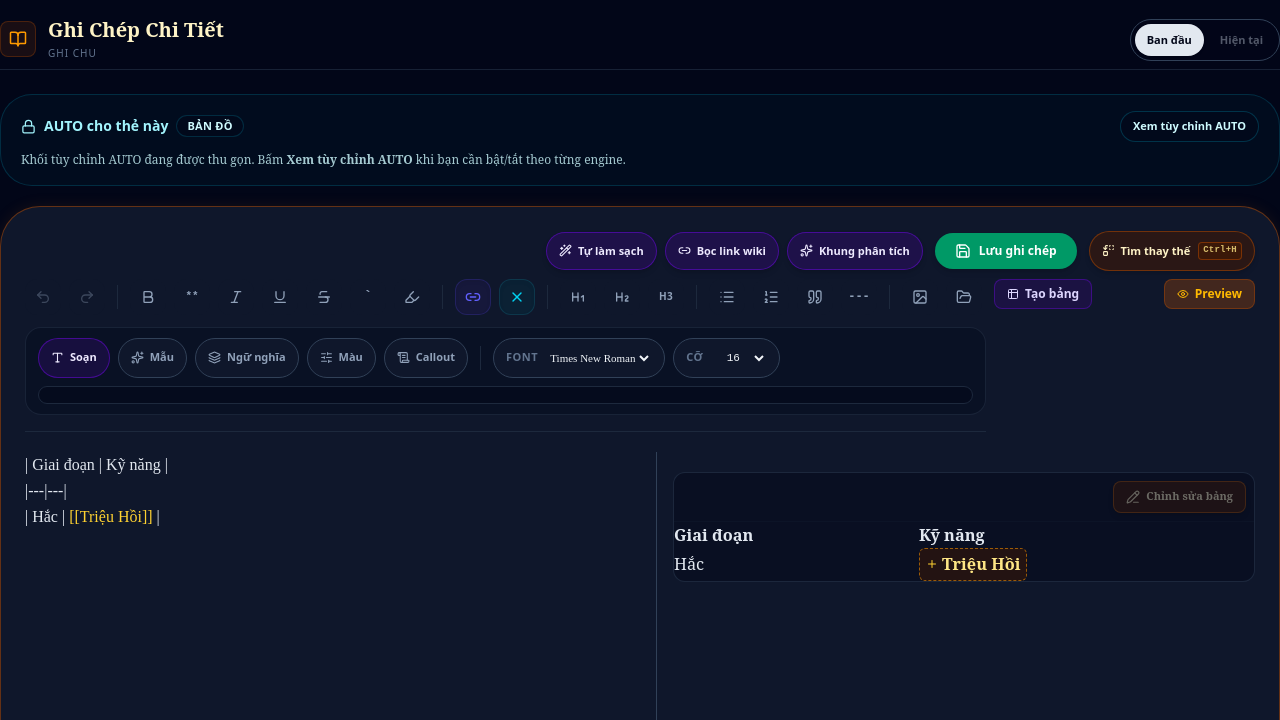
Test: EntityNotesMarkdownTableEdit › shows wiki highlight in modal cell while editing
The image size is (1280, 720).
Click the button with test id "edit-md-table-0" at (1180, 496), box [1113, 480, 1246, 512]
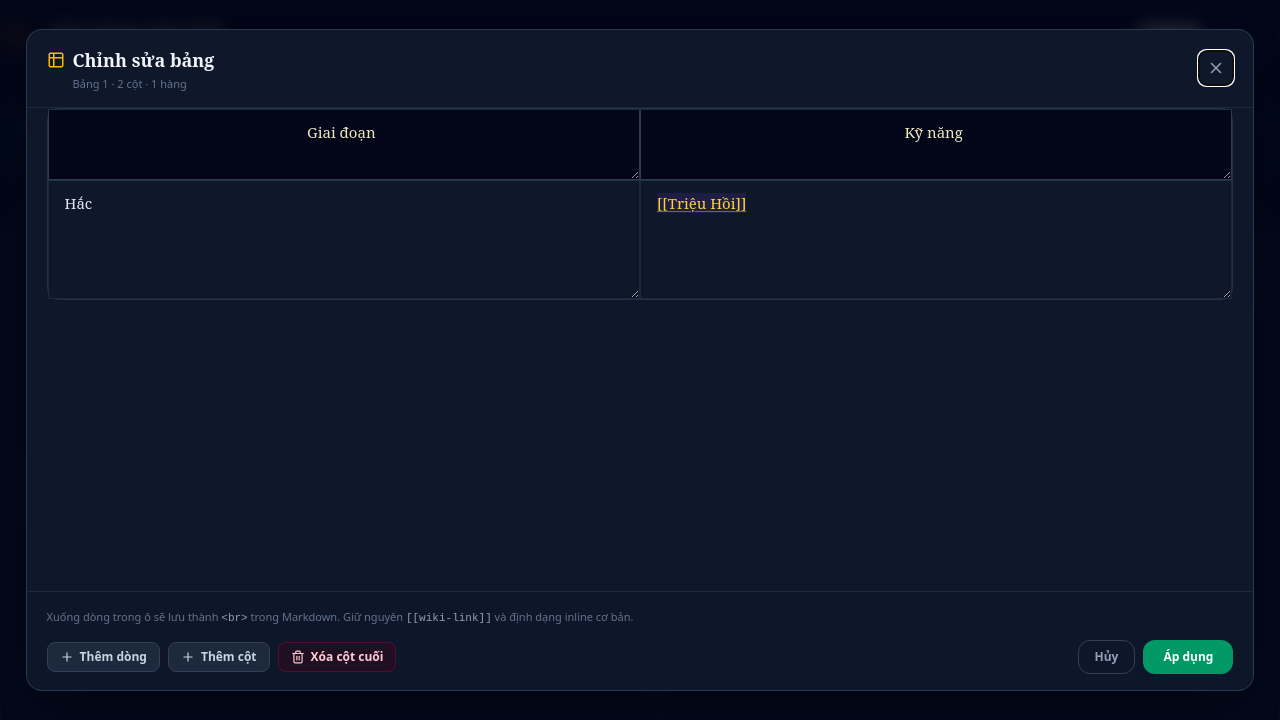
Expected: the text "[ [Triệu Hồi]]" is shown, [657, 193, 746, 213]
Expected: the text box named "Ô hàng 1 cột 2" holds "[ [Triệu Hồi]]", [641, 181, 1231, 298]
